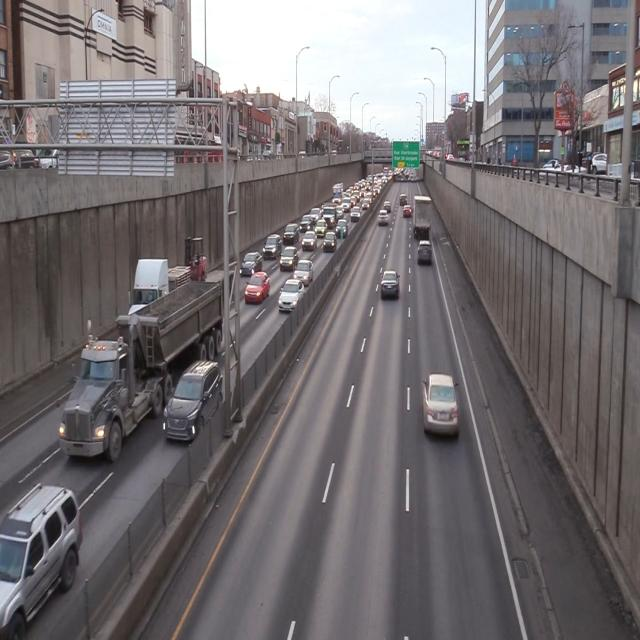Car: (58, 272, 230, 462), (0, 480, 82, 635), (163, 356, 226, 448), (420, 370, 461, 444), (278, 279, 305, 313), (245, 272, 270, 307), (412, 196, 432, 239), (380, 270, 400, 299), (240, 250, 262, 276), (280, 247, 299, 270), (263, 236, 280, 260), (417, 240, 432, 267), (283, 224, 300, 246), (302, 231, 317, 252), (323, 234, 337, 254), (378, 210, 389, 227)
